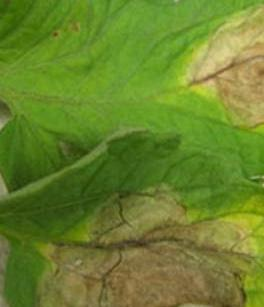Tomato leaf late blight: (0, 0, 264, 180), (0, 128, 264, 307)
